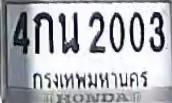0: (109, 11, 125, 52), (129, 11, 144, 52)
2: (88, 11, 105, 52)
3: (148, 11, 164, 51)
4: (12, 10, 29, 54)
A01: (33, 11, 53, 54)
A25: (58, 11, 80, 53)
BKK: (24, 64, 154, 91)
